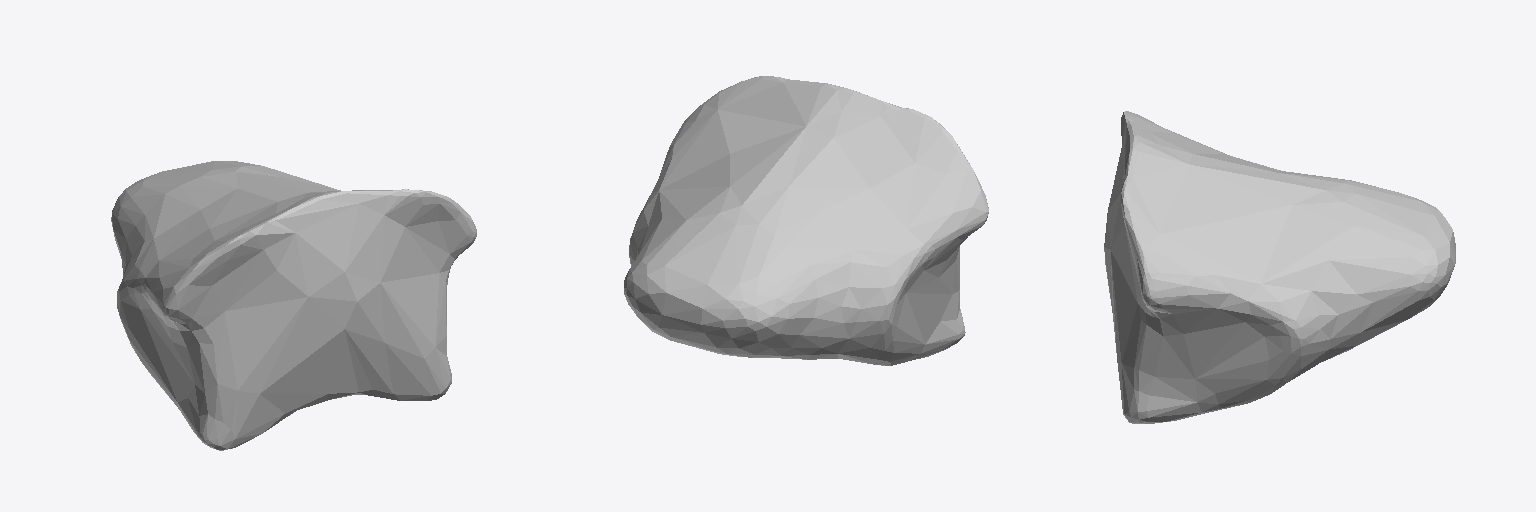
Rendered from FJ3153_BP7865_FMA7488_Xiphoid process.obj.
3 views of the same model, side by side, from view 1: azimuth 30°, elevation 25°; view 2: azimuth 150°, elevation 25°; view 3: azimuth 270°, elevation 25° (orthographic).
Parts seen in each view (by area): view 1: grp1; view 2: grp1; view 3: grp1.
Part boxes in pixels (x1,y1,x2,y2): grp1: (111,161,476,450); grp1: (624,76,988,365); grp1: (1104,111,1455,423).
Bounding box in the file's own units: 20.94 × 14.84 × 20.48.